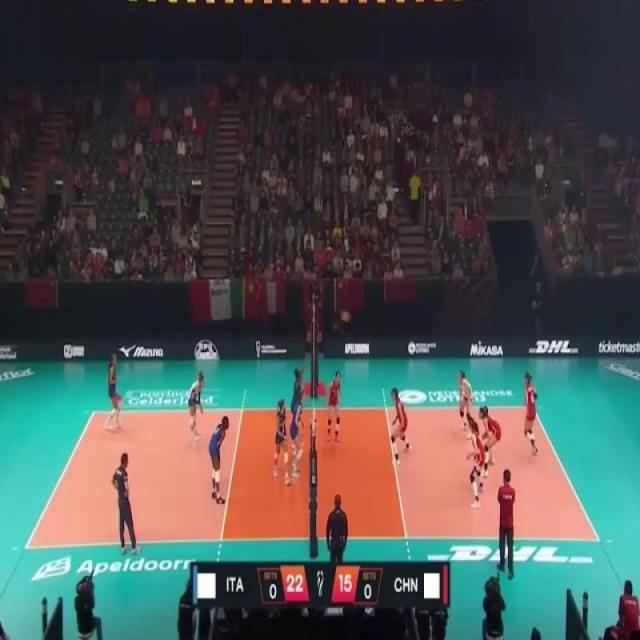volleyball: (340, 308, 351, 323)
